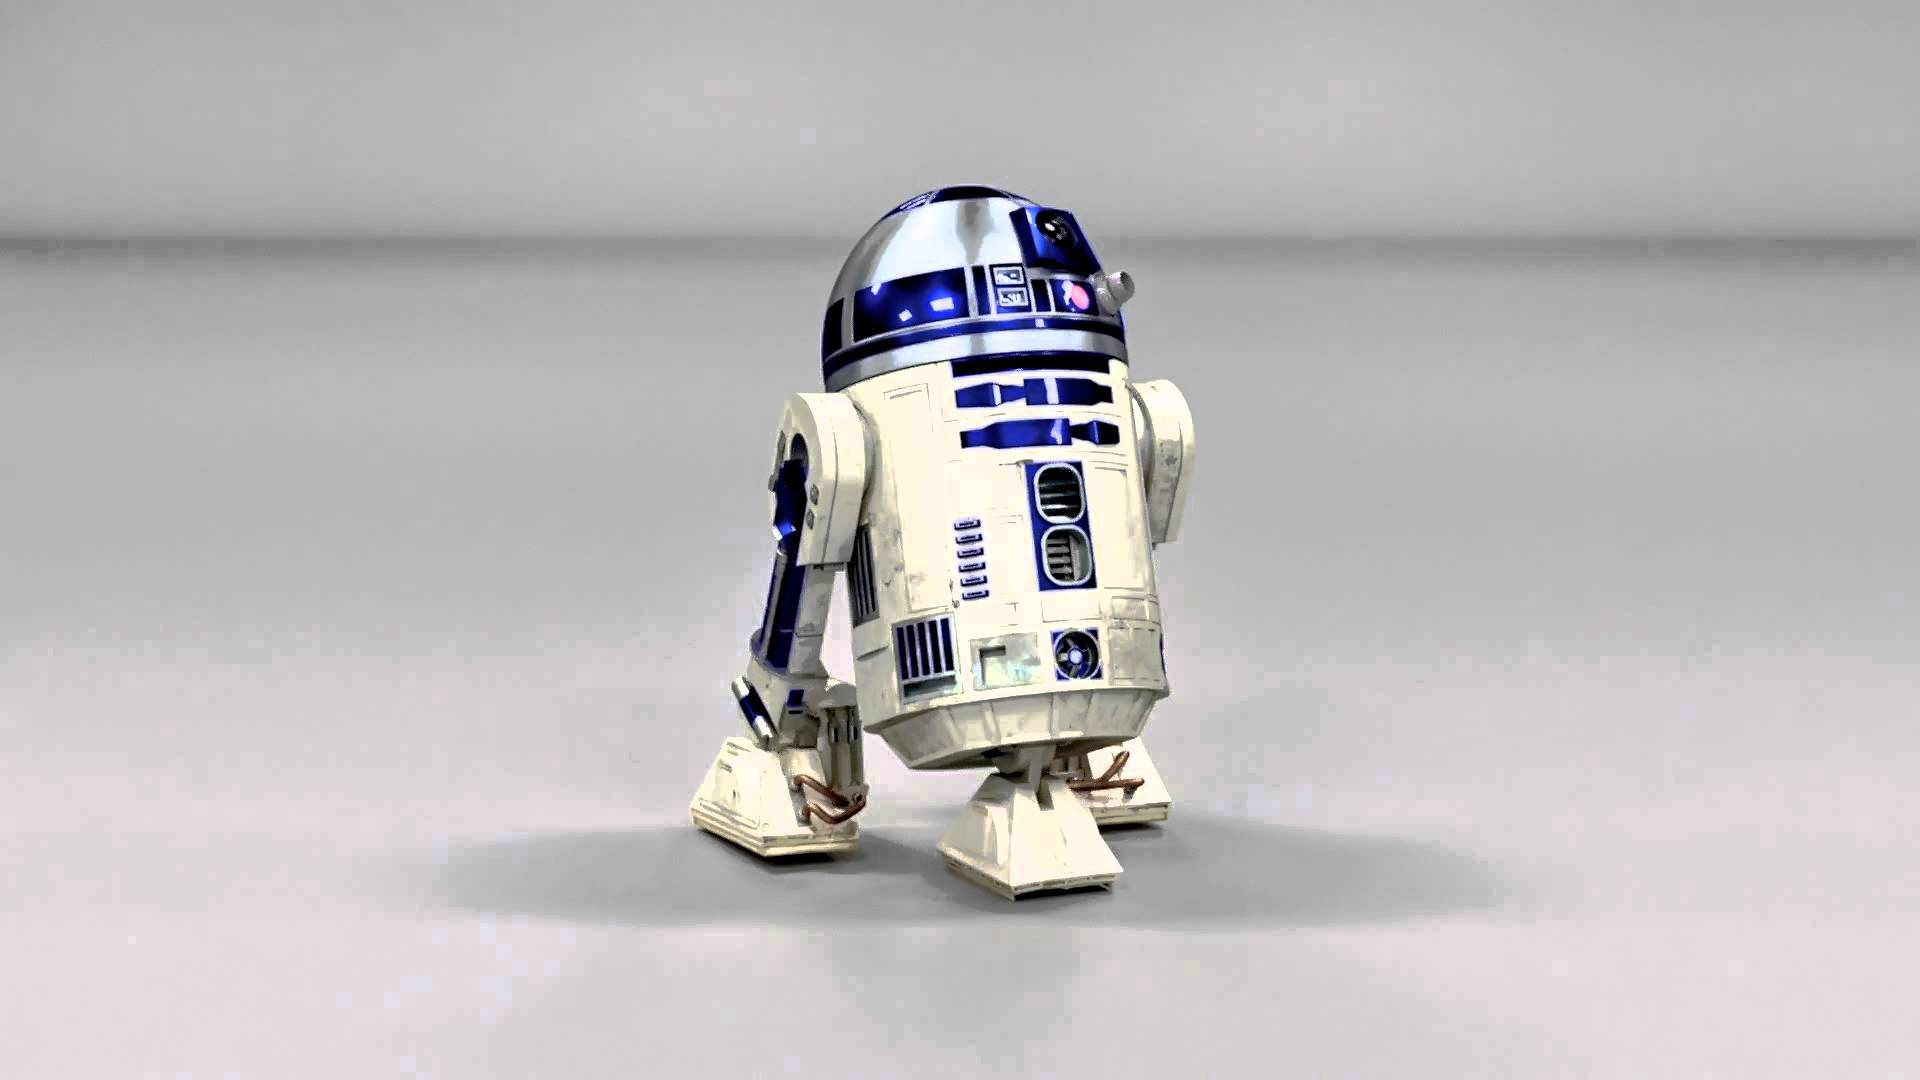r2d2: (687, 181, 1196, 909)
